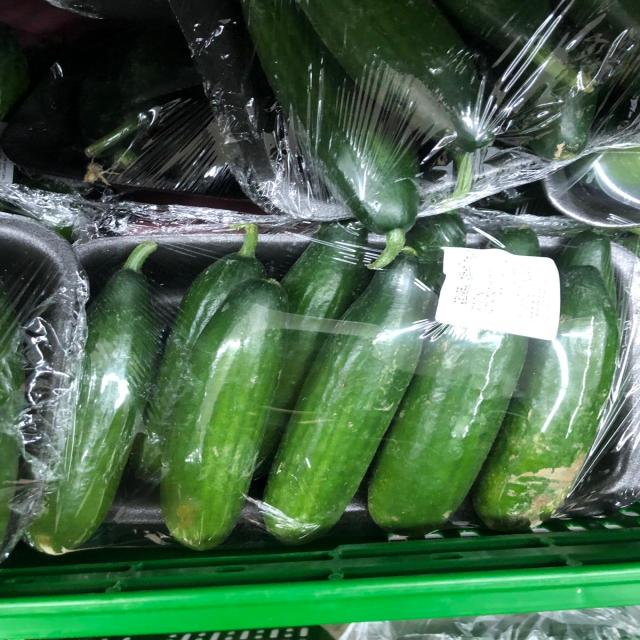cucumber: (257, 239, 447, 544), (20, 235, 176, 554), (153, 269, 295, 554)
